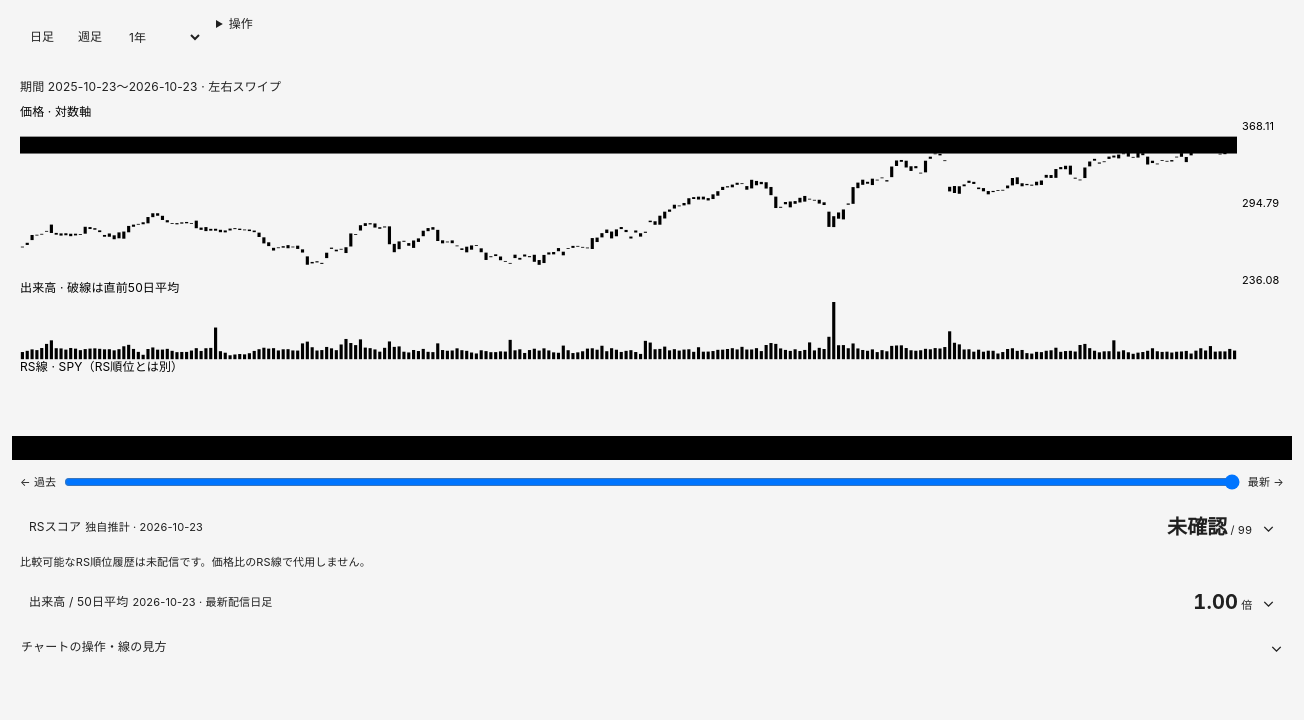
Test: self-drawn SVG evidence and controls › keeps exact weekly numeric legends in the initially closed mobile chart help
The width and height of the screenshot is (1304, 720).
Click the button "週足".
click(90, 37)  # box [68, 15, 112, 59]
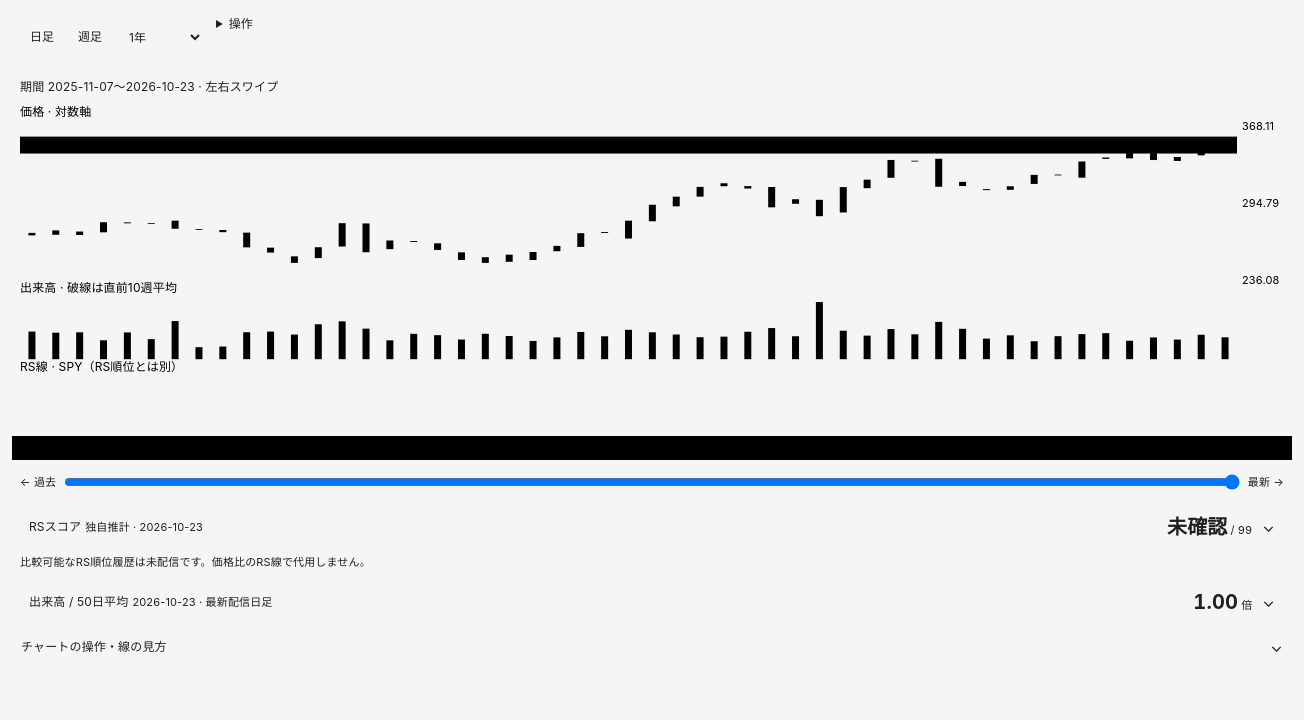
Click the heading "チャートの操作・線の見方 ⌄".
click(94, 646)  # box [21, 636, 1283, 656]
(page scrolled)
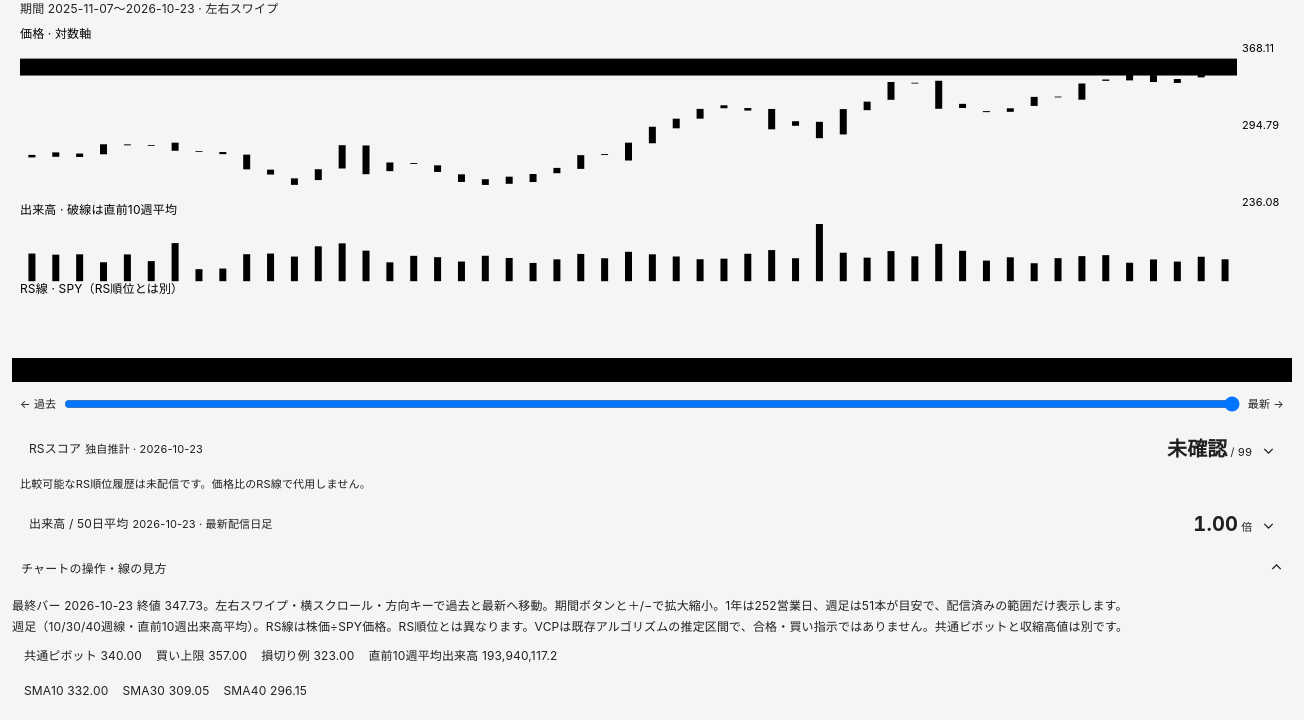
Result: the text "チャートの操作・線の見方" shows "共通ピボット 340.00" at [12, 546, 1292, 719]
Result: the text "チャートの操作・線の見方" shows "買い上限 357.00" at [12, 546, 1292, 719]
Result: the text "チャートの操作・線の見方" shows "損切り例 323.00" at [12, 546, 1292, 719]
